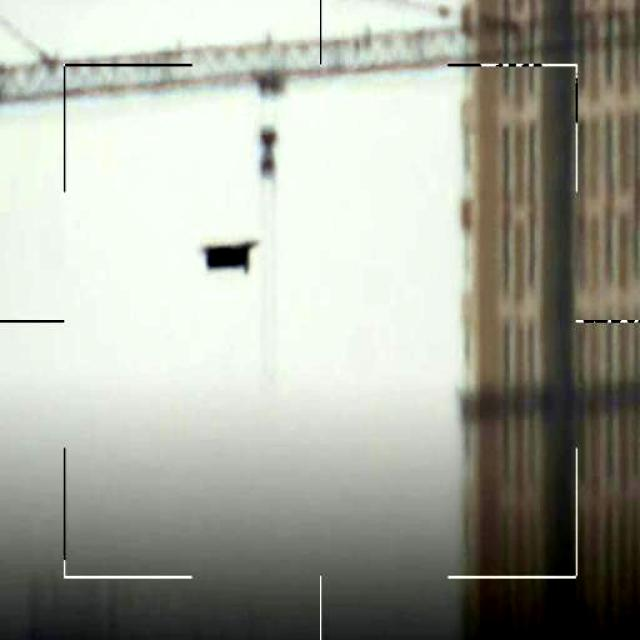bird: (196, 240, 251, 272)
